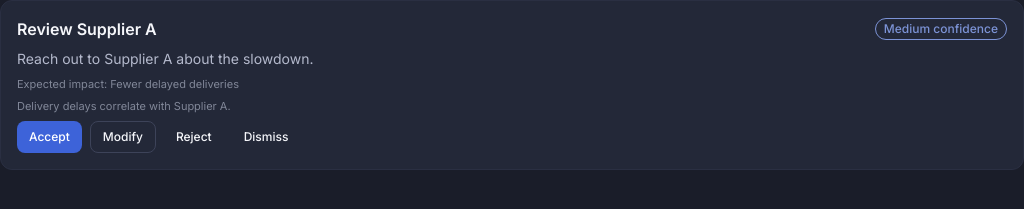
RecommendationCard › shows the server-returned error message and never toasts or refreshes when the decision fails
Click the button "Reject" at (194, 137), box [164, 121, 224, 153]
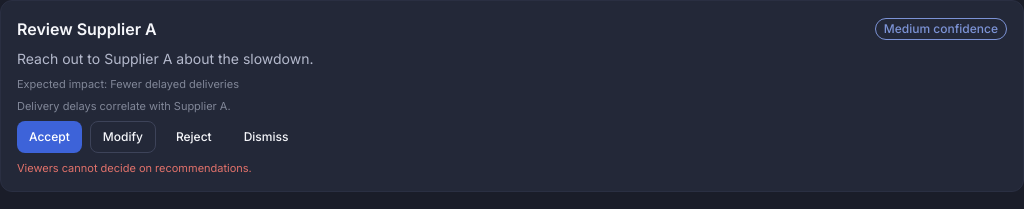
Now the message "Viewers cannot decide on recommendations." is shown, box [17, 161, 252, 175]
